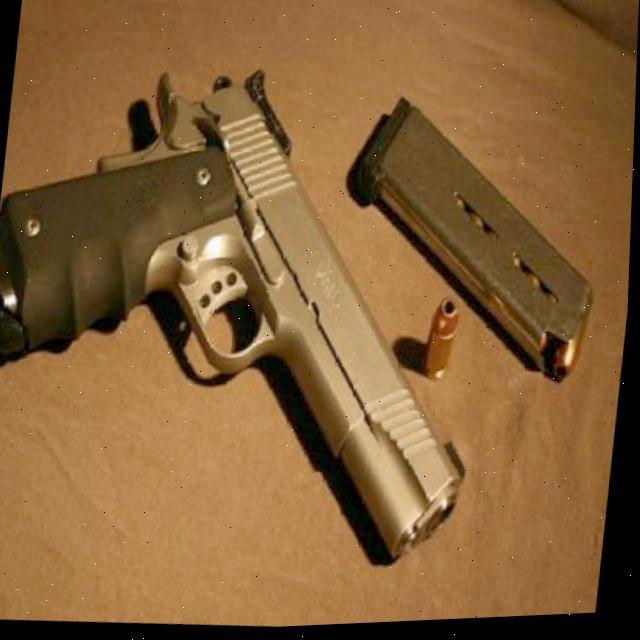gun: (0, 39, 511, 585)
